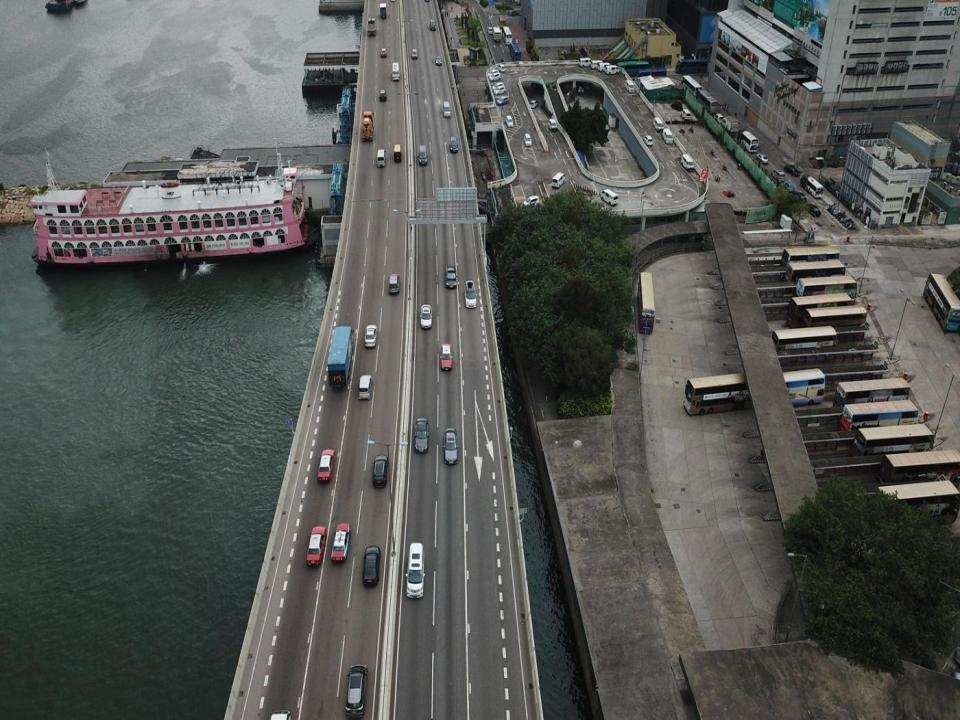bus: (874, 480, 960, 528), (677, 366, 754, 419), (840, 372, 910, 420), (919, 270, 960, 346), (842, 402, 916, 443), (888, 452, 959, 492), (857, 425, 931, 462), (800, 301, 870, 338), (771, 366, 823, 408), (786, 294, 861, 323), (795, 274, 857, 309), (784, 245, 844, 277), (772, 328, 836, 357), (789, 260, 846, 290), (637, 272, 658, 336), (799, 172, 823, 200), (675, 56, 710, 74), (684, 74, 704, 101), (638, 67, 666, 86), (696, 90, 718, 112), (618, 59, 648, 75), (740, 130, 758, 154), (510, 42, 521, 62), (390, 61, 401, 80), (503, 24, 513, 43), (493, 26, 501, 40)
car: (402, 542, 430, 600), (344, 662, 366, 714), (302, 526, 328, 568), (329, 522, 353, 566), (361, 546, 383, 588), (316, 447, 337, 483), (442, 426, 460, 466), (371, 452, 389, 488), (438, 341, 455, 374), (414, 418, 430, 453), (462, 280, 479, 310), (356, 373, 374, 400), (362, 323, 381, 347), (418, 303, 434, 330), (443, 265, 459, 291), (385, 272, 402, 294), (782, 160, 799, 177), (417, 144, 430, 166), (376, 148, 388, 169), (391, 142, 402, 164), (757, 151, 769, 168), (448, 136, 459, 154), (808, 203, 821, 217), (773, 170, 784, 185), (497, 92, 509, 105), (795, 192, 806, 205), (433, 54, 443, 68), (377, 88, 388, 100), (505, 114, 514, 128), (643, 133, 652, 147), (508, 8, 523, 16), (672, 100, 682, 112), (786, 181, 794, 194), (530, 99, 538, 112), (380, 46, 388, 57), (486, 26, 494, 36), (412, 48, 418, 60), (499, 63, 506, 73), (714, 114, 722, 122), (578, 84, 584, 94)
truck: (324, 324, 356, 390), (358, 109, 376, 142), (723, 115, 738, 138), (366, 16, 377, 35), (379, 3, 389, 21), (498, 9, 506, 26)
van: (601, 188, 620, 206), (522, 194, 541, 209), (440, 99, 452, 120), (682, 153, 695, 172), (652, 116, 664, 134), (590, 57, 605, 71), (664, 128, 675, 146), (551, 172, 565, 186), (549, 115, 558, 134), (607, 63, 620, 76), (578, 56, 590, 69), (523, 132, 532, 146), (626, 78, 635, 92), (489, 68, 501, 78), (493, 82, 504, 92), (494, 86, 506, 95), (428, 18, 436, 31), (599, 63, 610, 72), (681, 108, 689, 120), (490, 74, 501, 82)
